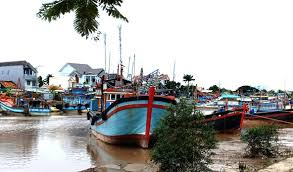tau_dansu: (88, 85, 168, 150), (178, 104, 249, 133), (2, 92, 54, 119)
